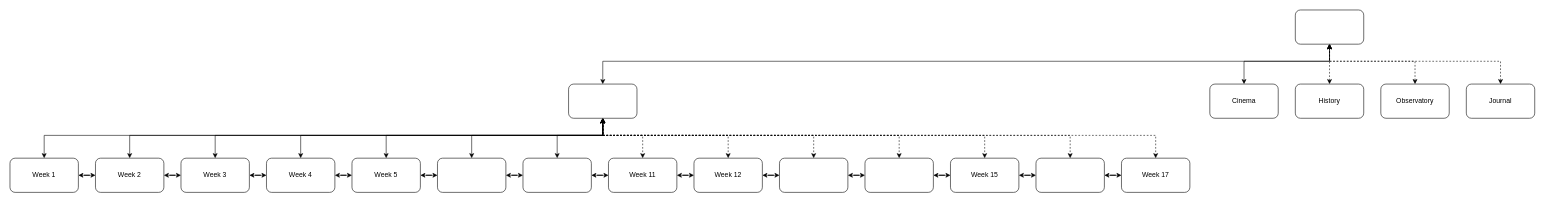
Image size: 1545x202. Some labels were removed from this diagram. The shapes that lost their labels are listed below. From the top down, each one's box as (x1, y1, x2, y2) in pixels, then its label:
(1295, 9, 1364, 44): The Hub
(568, 84, 637, 118): Coursework
(437, 158, 506, 192): Week 6
(522, 158, 591, 192): Week 7
(779, 158, 848, 192): Week 13
(864, 158, 933, 192): Week 14
(1035, 158, 1104, 192): Week 16
